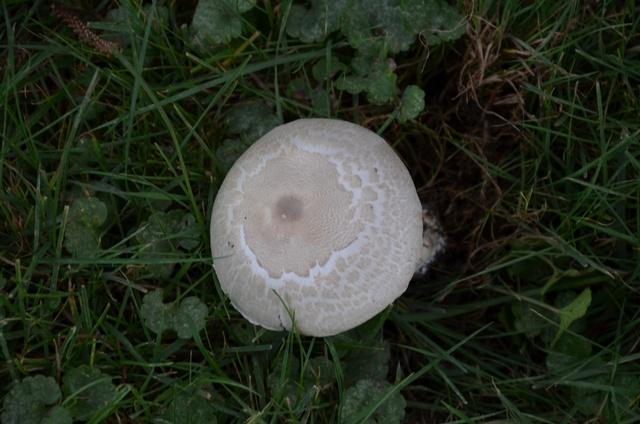Non-edible Mushroom: (208, 116, 425, 338)
